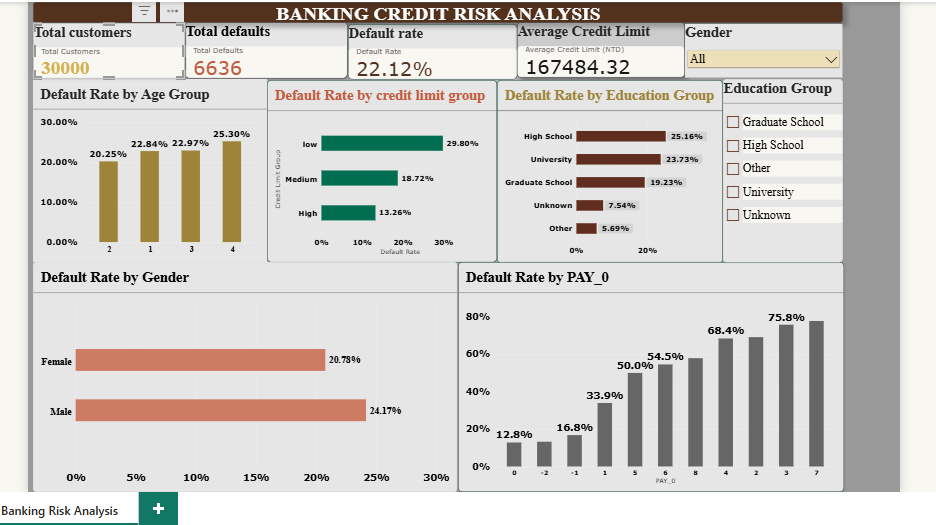

What the dashboard file says about the page in this screenshot:
{"tool":"powerbi","page":{"name":"Banking Risk Analysis","canvas":[1920,1080],"ordinal":0},"visuals":[{"type":"cardVisual","title":"Total customers","fields":{"Data":["credit_card_clients(SQL_Data).Total Customers"]},"box":[11.1,46.7,335.6,122.2],"z":0},{"type":"cardVisual","title":"Total defaults","fields":{"Data":["credit_card_clients(SQL_Data).Total Defaults"]},"box":[346.7,44.4,357.8,124.4],"z":1000},{"type":"cardVisual","title":"Default rate","fields":{"Data":["credit_card_clients(SQL_Data).Default Rate"]},"box":[704.4,48.9,373.3,122.2],"z":2000},{"type":"cardVisual","title":"Average Credit Limit","fields":{"Data":["credit_card_clients(SQL_Data).Average Credit Limit"]},"box":[1077.8,44.4,370,122.5],"z":3000},{"type":"clusteredColumnChart","title":"Default Rate by Age Group","fields":{"Category":["credit_card_clients(SQL_Data).Age Group Sort"],"Y":["credit_card_clients(SQL_Data).Default Rate"]},"box":[11.1,168.9,515.6,404.4],"z":4000},{"type":"clusteredBarChart","title":"Default Rate by credit limit group","fields":{"Category":["credit_card_clients(SQL_Data).Credit Limit Group"],"Y":["credit_card_clients(SQL_Data).Default Rate"]},"box":[526.7,171.1,506.7,402.2],"z":5000},{"type":"clusteredBarChart","title":"Default Rate by Education Group","fields":{"Category":["credit_card_clients(SQL_Data).Education Group"],"Y":["credit_card_clients(SQL_Data).Default Rate"]},"box":[1033.3,171.1,497.8,404.4],"z":6000},{"type":"clusteredBarChart","title":"Default Rate by Gender","fields":{"Category":["credit_card_clients(SQL_Data).Gender"],"Y":["credit_card_clients(SQL_Data).Default Rate"]},"box":[11,573.1,934.5,506.9],"z":7000},{"type":"clusteredColumnChart","title":"Default Rate by PAY_0","fields":{"Category":["credit_card_clients(SQL_Data).PAY_0"],"Y":["credit_card_clients(SQL_Data).Default Rate"]},"box":[946.7,573.3,851.1,506.7],"z":8000},{"type":"textbox","box":[10,784,363,296],"z":9000},{"type":"textbox","title":"BANKING CREDIT RISK ANALYSIS","box":[11.5,0,1785.2,45.9],"z":10000},{"type":"slicer","title":"Gender","fields":{"Values":["credit_card_clients(SQL_Data).Gender"]},"box":[1448.9,48.9,346.7,117.8],"z":11000},{"type":"slicer","title":"Education Group","fields":{"Values":["credit_card_clients(SQL_Data).Education Group"]},"box":[1531.1,168.9,264.4,404.4],"z":12000}]}

Visuals, with their boxes in screenshot pixels (x1, y1, x2, y2):
"Total customers" cardVisual: <region>27, 22, 182, 78</region>
"Total defaults" cardVisual: <region>182, 20, 347, 78</region>
"Default rate" cardVisual: <region>347, 23, 519, 79</region>
"Average Credit Limit" cardVisual: <region>519, 20, 690, 77</region>
"Default Rate by Age Group" clusteredColumnChart: <region>27, 78, 265, 265</region>
"Default Rate by credit limit group" clusteredBarChart: <region>265, 79, 499, 265</region>
"Default Rate by Education Group" clusteredBarChart: <region>499, 79, 729, 266</region>
"Default Rate by Gender" clusteredBarChart: <region>27, 265, 458, 498</region>
"Default Rate by PAY_0" clusteredColumnChart: <region>459, 265, 852, 498</region>
textbox: <region>27, 362, 194, 498</region>
"BANKING CREDIT RISK ANALYSIS" textbox: <region>27, 0, 851, 21</region>
"Gender" slicer: <region>691, 23, 851, 77</region>
"Education Group" slicer: <region>729, 78, 851, 265</region>
